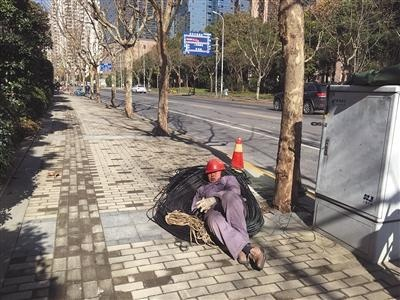falling: (171, 154, 273, 271)
